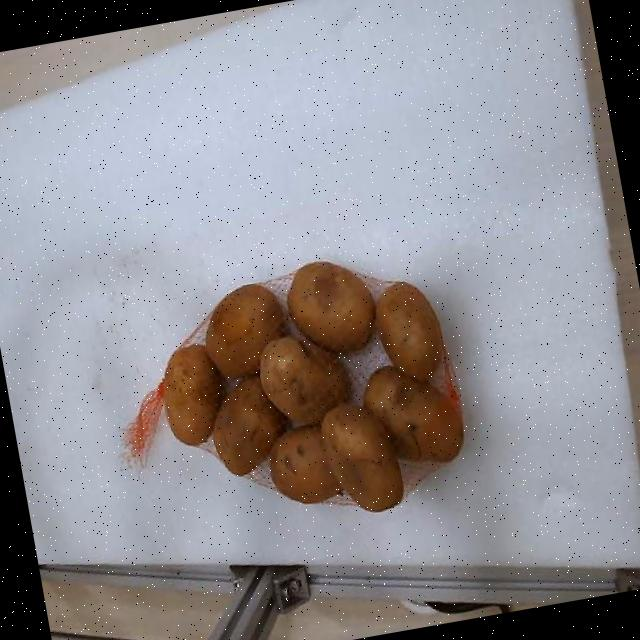potato: (363, 366, 463, 461), (321, 403, 403, 512), (287, 261, 375, 350), (212, 375, 287, 475), (259, 336, 347, 421), (205, 283, 284, 376), (376, 281, 443, 379), (163, 343, 225, 444), (269, 426, 342, 504)
